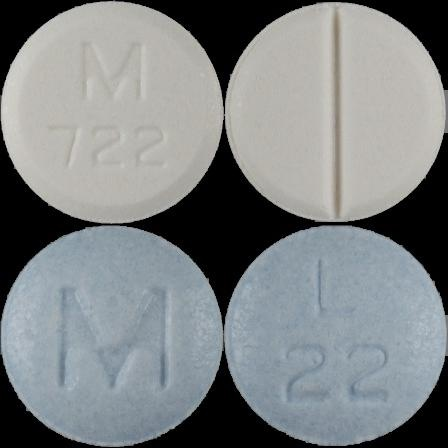55154-6256: (0, 0, 224, 224)
